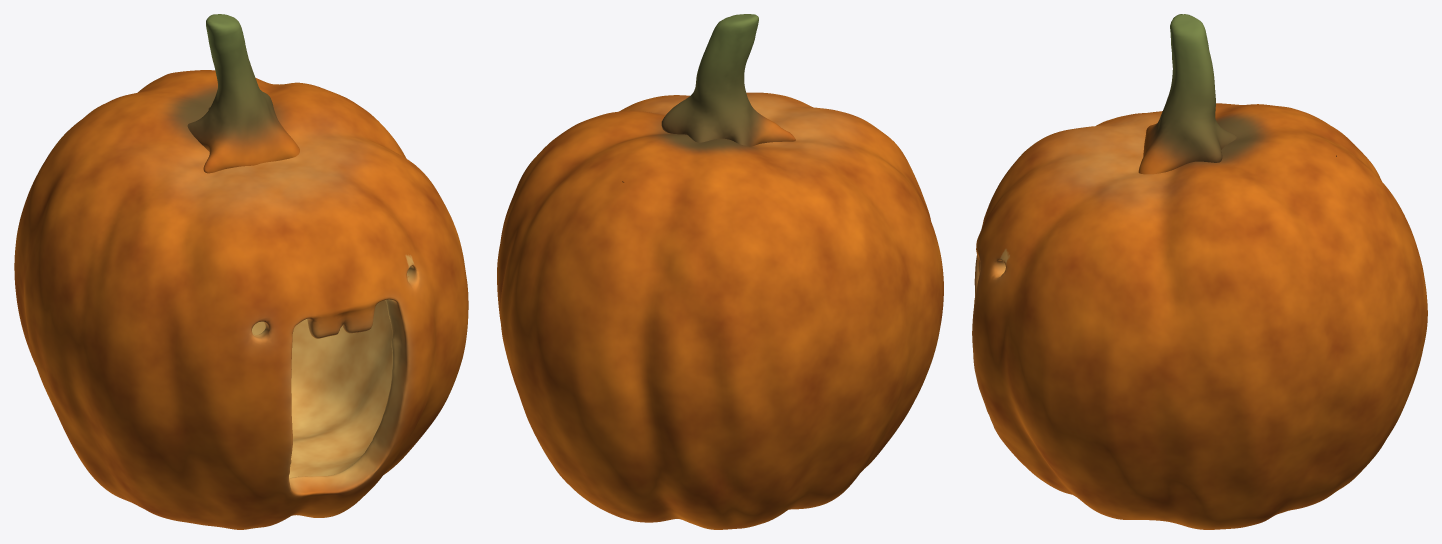
File: pumpkin.glb
3 views of the same model, side by side, from view 1: azimuth 30°, elevation 25°; view 2: azimuth 150°, elevation 25°; view 3: azimuth 270°, elevation 25° (orthographic). The views are drawn at different scales.
Visible parts, largest first — view 1: Carved Pumpkin; view 2: Carved Pumpkin; view 3: Carved Pumpkin.
Boxes of the visible parts, x1,y1,x2,y2 form: Carved Pumpkin: [14, 14, 468, 529]; Carved Pumpkin: [497, 14, 943, 529]; Carved Pumpkin: [972, 14, 1427, 529].
Size of the model in its own units: 2.55 by 3.07 by 2.77.
1 material, 1 textured.
